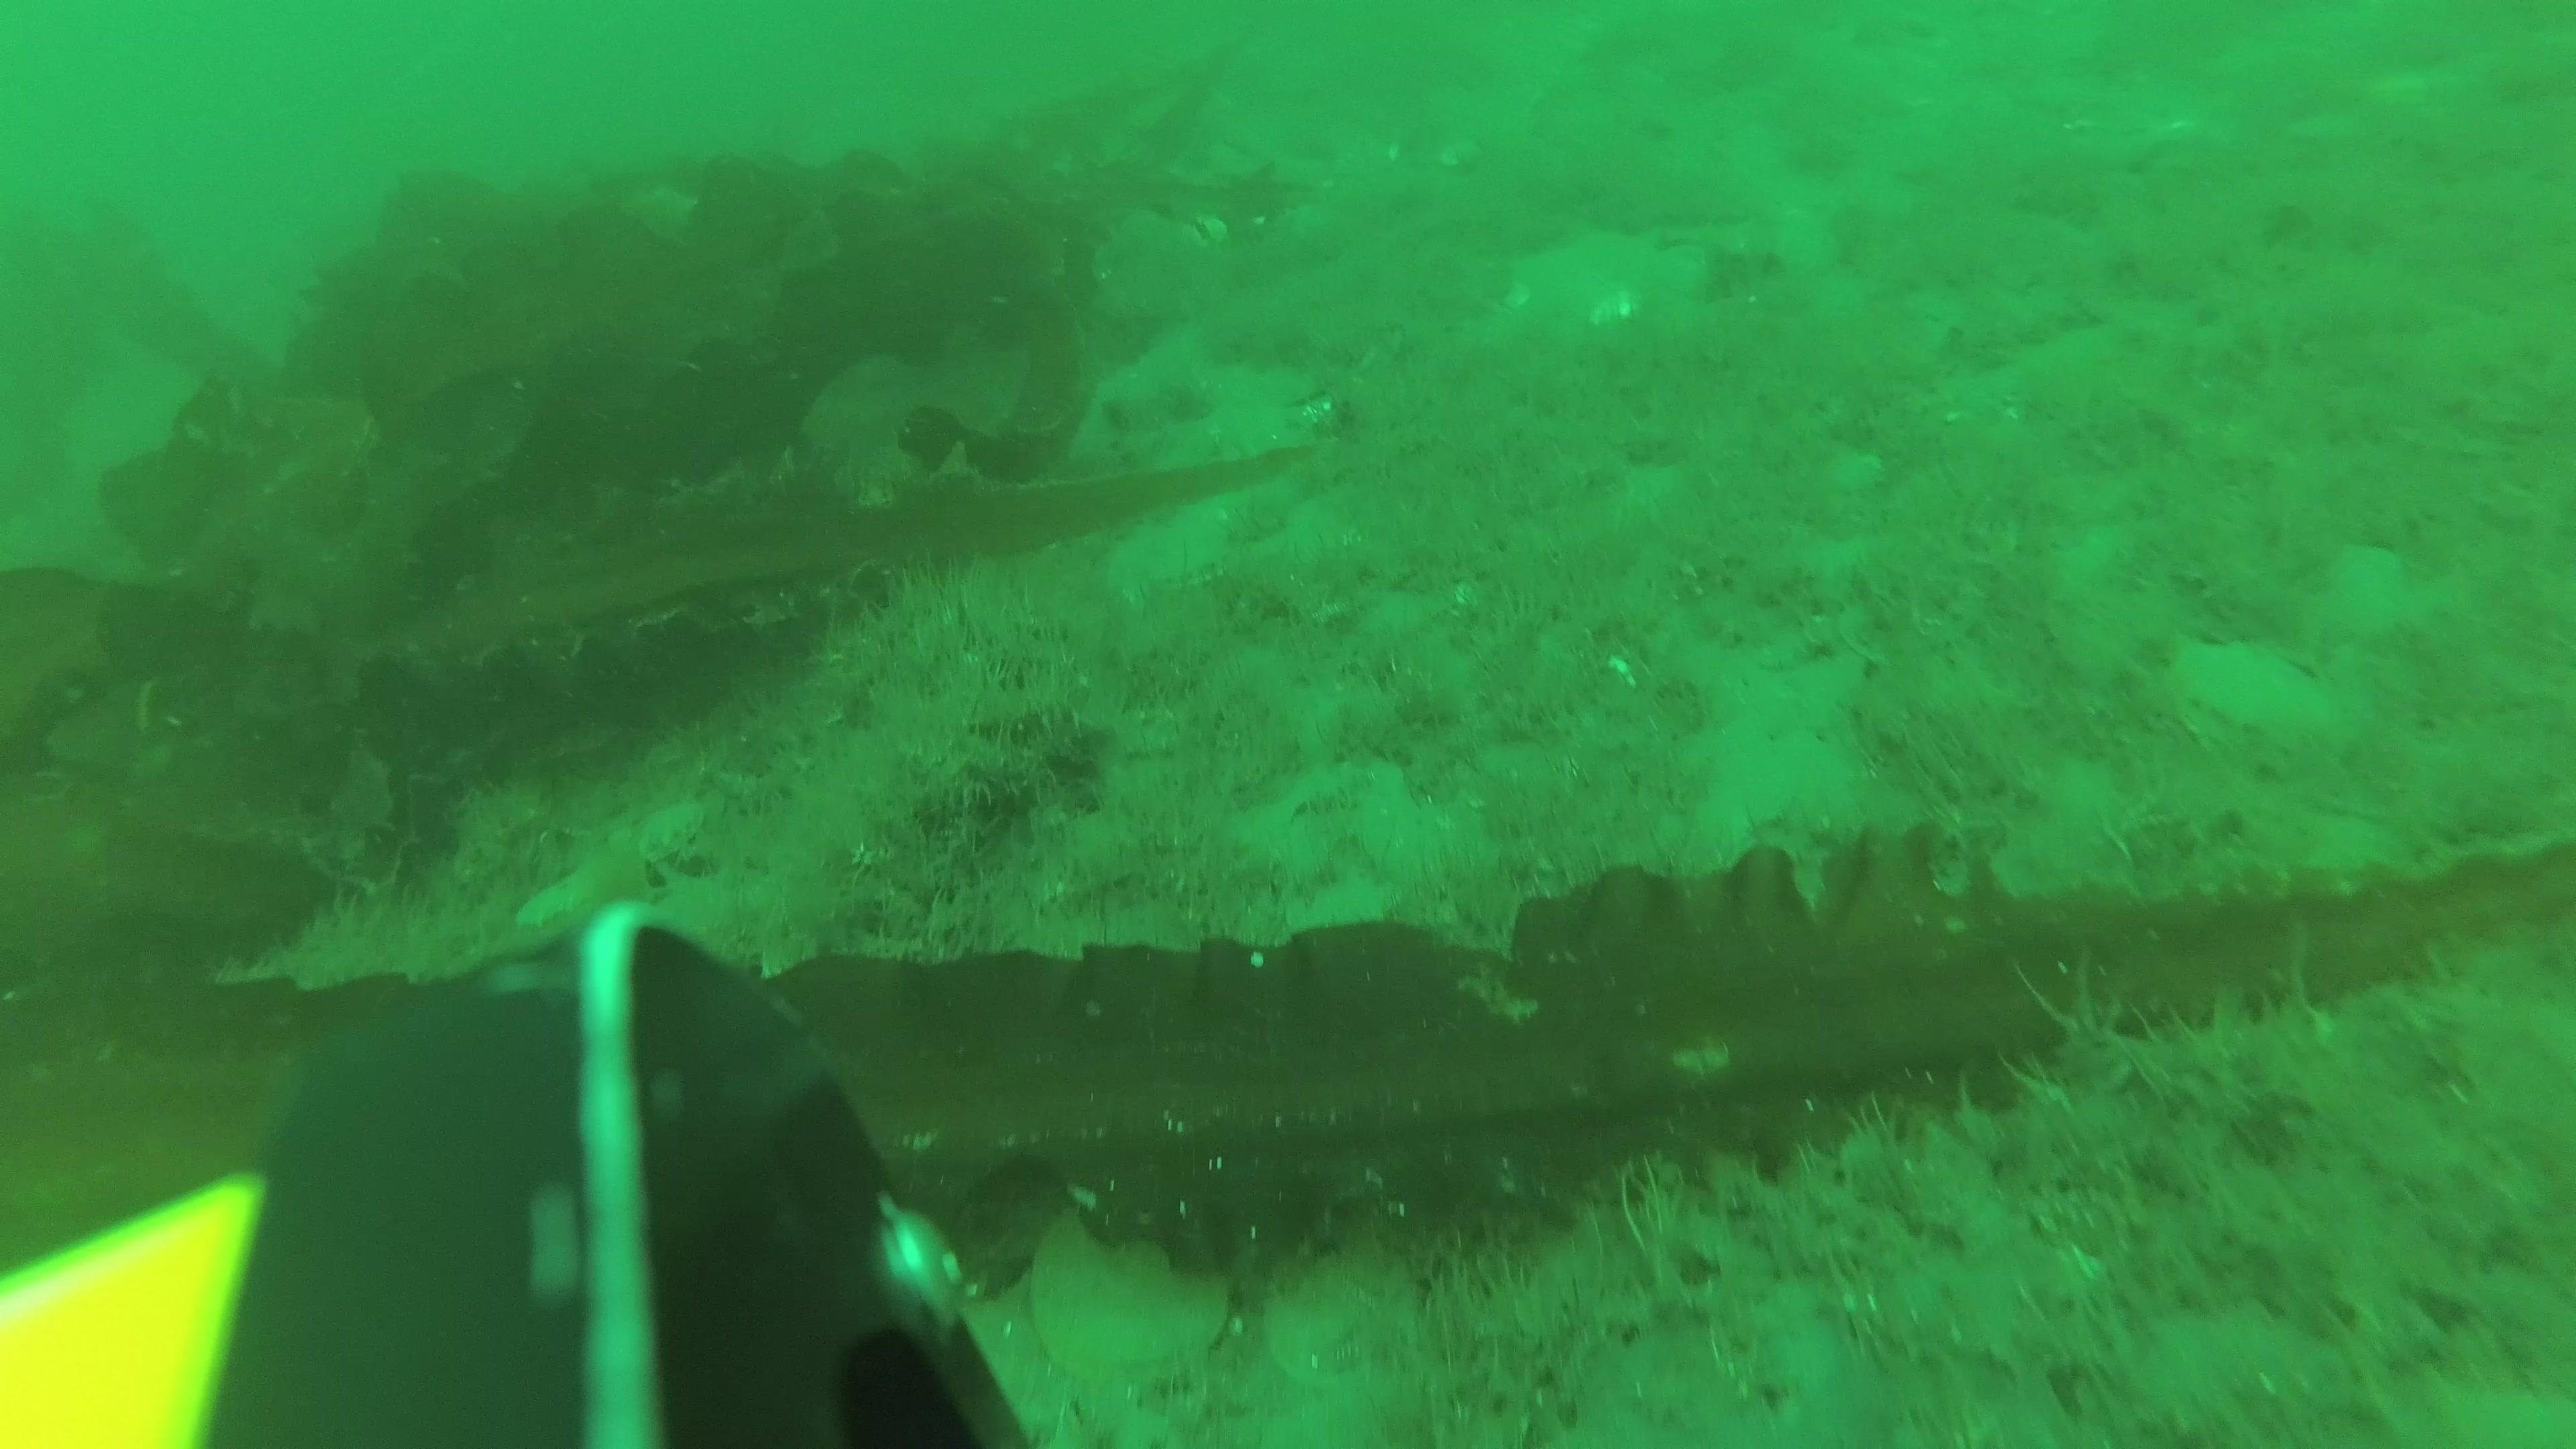scallop: (1026, 1214, 1233, 1387), (2166, 637, 2360, 768), (1111, 488, 1297, 610)
